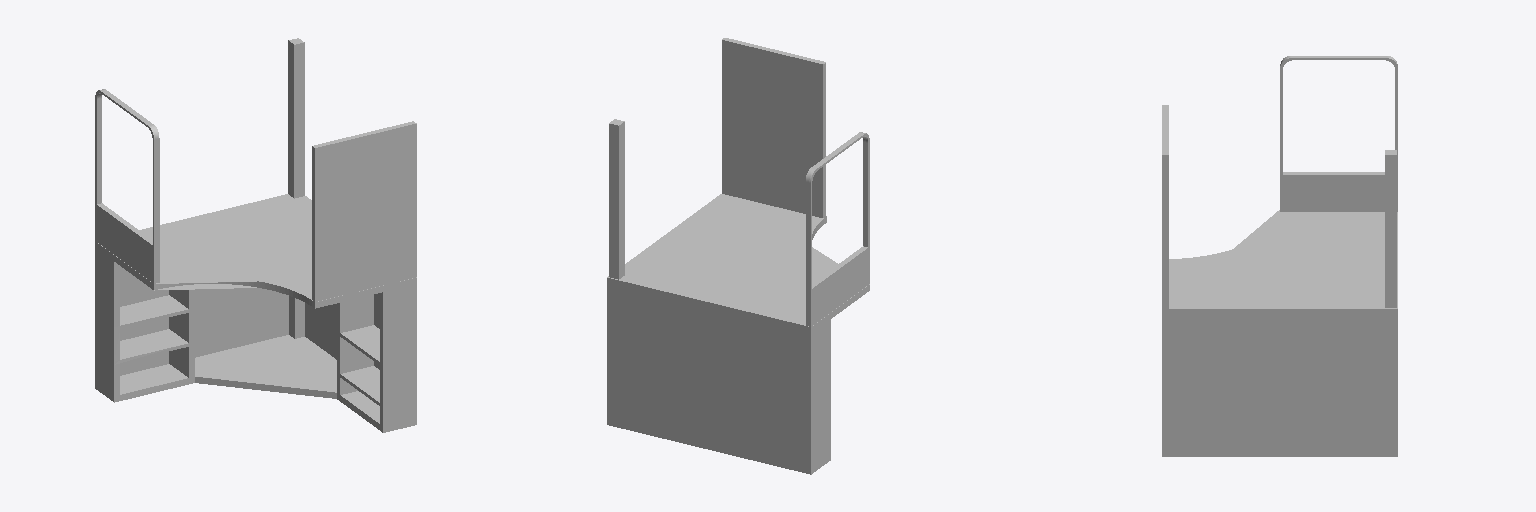
File: desk_corner.obj
The picture shows the model from 3 angles: view 1: azimuth 30°, elevation 25°; view 2: azimuth 150°, elevation 25°; view 3: azimuth 270°, elevation 25°; orthographic projection.
Parts seen in each view (by area): view 1: Box.000.002_Cube.007; view 2: Box.000.002_Cube.007; view 3: Box.000.002_Cube.007.
Boxes of the visible parts, x1,y1,x2,y2 form: Box.000.002_Cube.007: [95, 38, 416, 432]; Box.000.002_Cube.007: [607, 38, 869, 474]; Box.000.002_Cube.007: [1162, 56, 1397, 456].
Bounding box in the file's own units: 0.7092 × 1 × 0.7092.